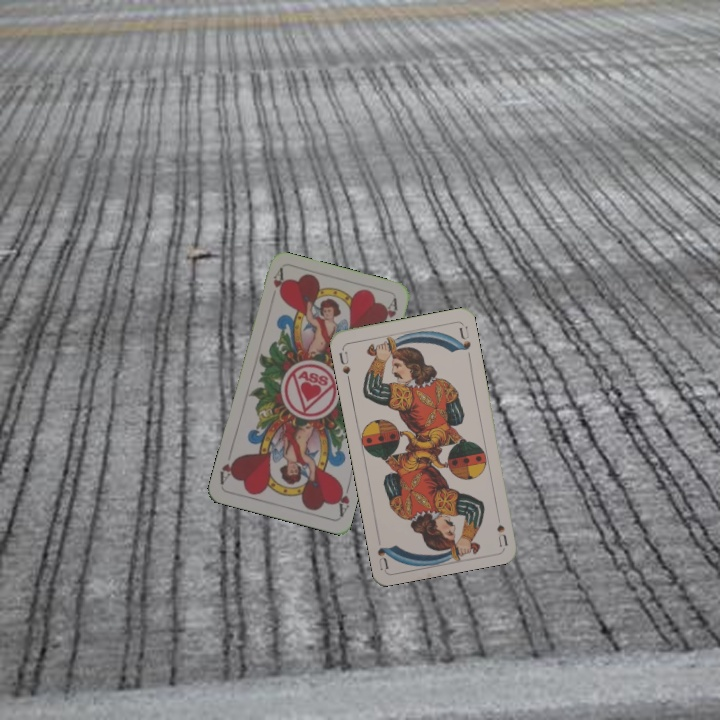HA: (332, 479, 353, 519), (266, 265, 286, 305)
SU: (335, 344, 353, 385), (493, 520, 510, 548)
